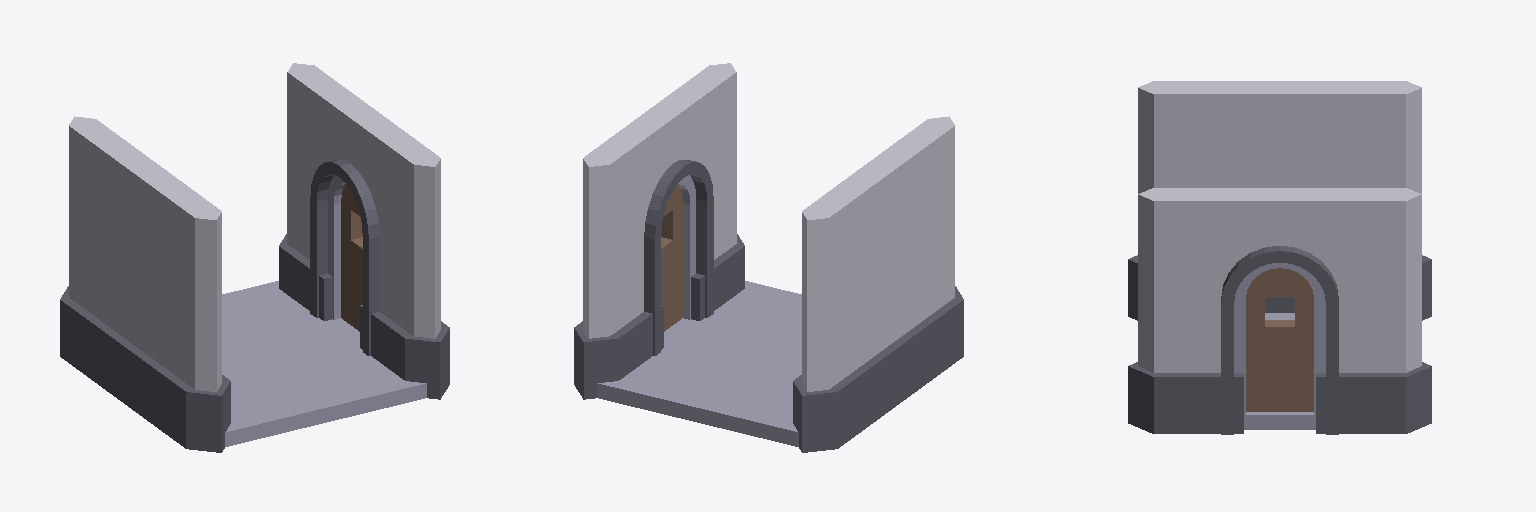
File: sm_hallway_04.obj
3 renders of one model, left to right at view 1: azimuth 30°, elevation 25°; view 2: azimuth 150°, elevation 25°; view 3: azimuth 270°, elevation 25°, orthographic.
Visible parts, largest first — view 1: wall_01_172, door_01_174, floor_square_169; view 2: wall_01_172, door_01_174, floor_square_169; view 3: door_01_174, wall_01_172, floor_square_169.
Boxes of the visible parts, <box> form: wall_01_172: <box>60,116,230,452</box>; door_01_174: <box>279,63,449,399</box>; floor_square_169: <box>222,281,426,446</box>; wall_01_172: <box>793,116,963,452</box>; door_01_174: <box>574,63,744,399</box>; floor_square_169: <box>597,281,801,446</box>; door_01_174: <box>1128,188,1431,434</box>; wall_01_172: <box>1128,81,1431,320</box>; floor_square_169: <box>1246,313,1315,429</box>.
Size of the model in its own units: 1.22 by 1 by 1.21.